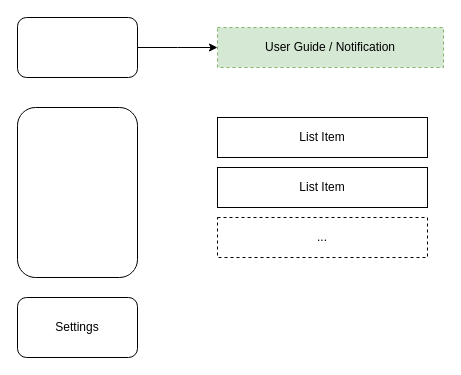
The diagram is 461 pixels wide and 375 high, and some of its shapes have lost their labels. Each missing label, with the centre of its shape:
Option Sets: (x=77, y=192)
Usage: (x=77, y=47)
